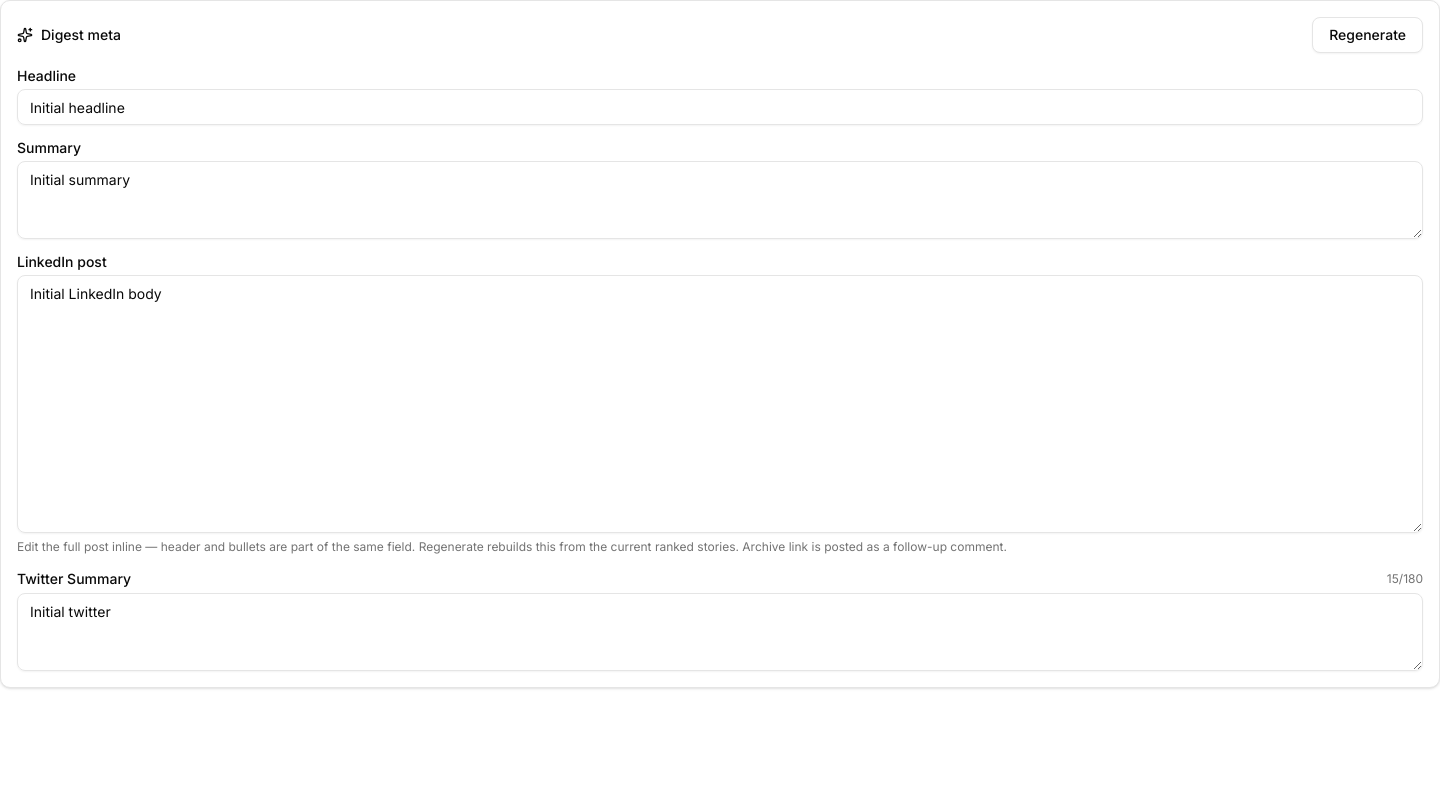
Scenario: DigestMetaPanel › REQ-018: failed regenerate shows an error and leaves fields unchanged
Click the button "Regenerate".
click(1368, 35)  # box [1312, 17, 1423, 53]
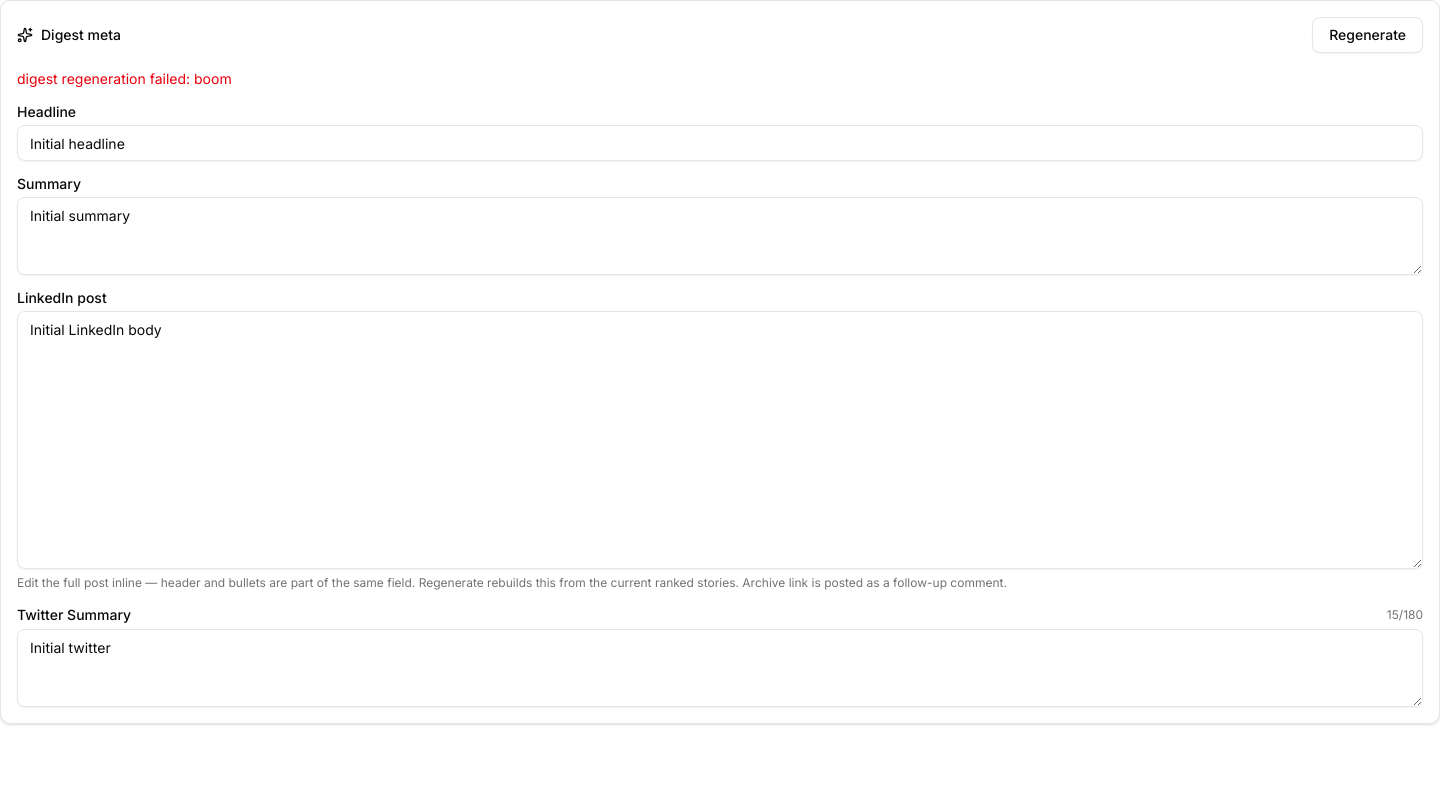
Expected: the message shows "boom", [17, 70, 232, 87]
